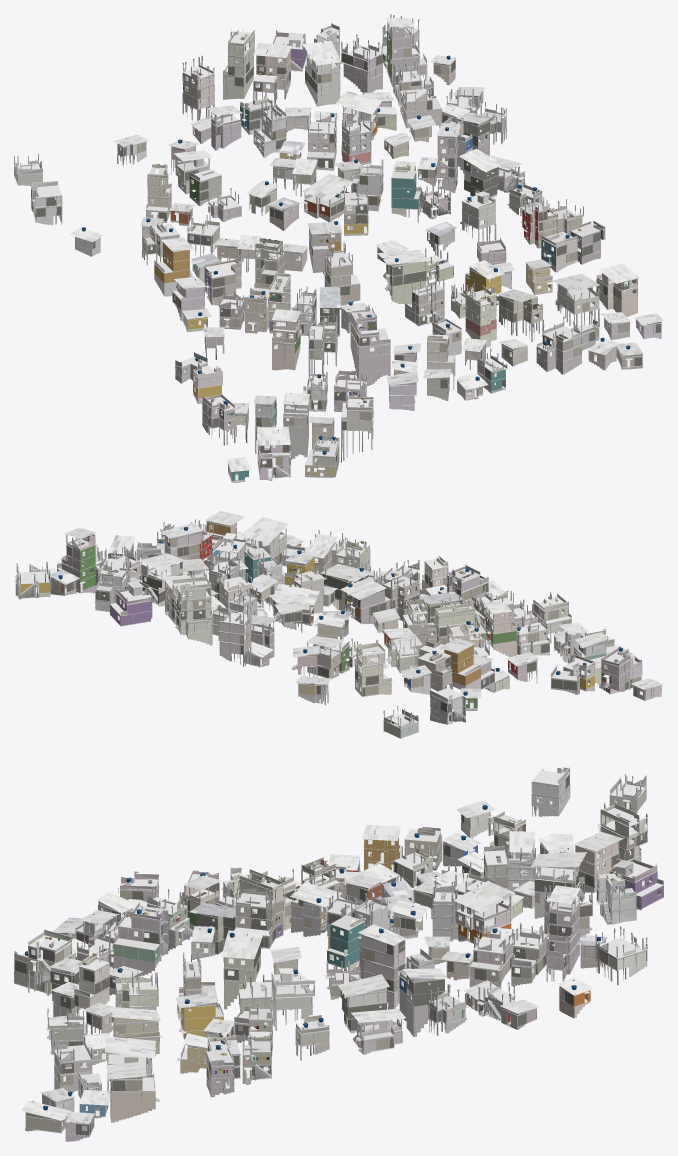
3 renders of one model, top to bottom at view 1: azimuth 30°, elevation 25°; view 2: azimuth 150°, elevation 25°; view 3: azimuth 270°, elevation 25°, orthographic. The views are drawn at different scales.
Visible parts, largest first — view 1: T_27_26; view 2: T_27_26; view 3: T_27_26.
Part boxes in pixels (bbox=[...]): T_27_26: bbox=[14, 14, 663, 482]; T_27_26: bbox=[14, 511, 663, 738]; T_27_26: bbox=[14, 767, 663, 1141].
Bounding box in the file's own units: 131 × 64.08 × 139.
